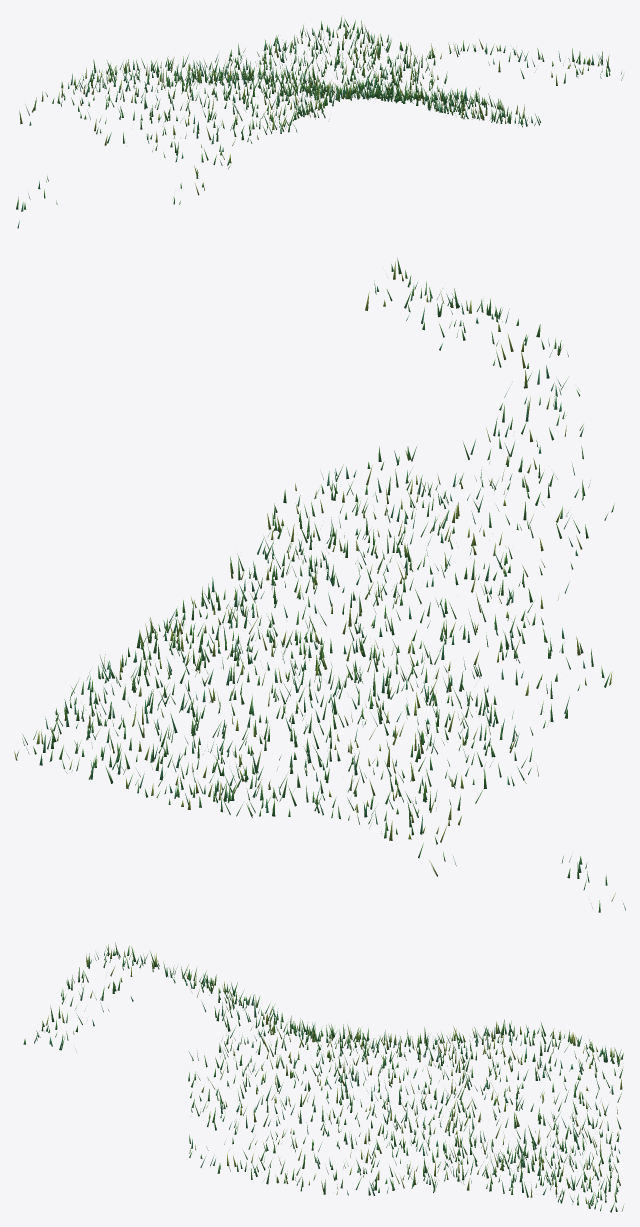
3 renders of one model, top to bottom at view 1: azimuth 30°, elevation 25°; view 2: azimuth 150°, elevation 25°; view 3: azimuth 270°, elevation 25°, orthographic. The views are drawn at different scales.
Visible parts, largest first — view 1: gc_40; view 2: gc_40; view 3: gc_40.
Boxes of the visible parts, x1=… form: gc_40: x1=16, y1=15, x2=623, y2=228; gc_40: x1=14, y1=258, x2=625, y2=912; gc_40: x1=23, y1=942, x2=624, y2=1212.
Bounding box in the file's own units: 9.51 × 5.83 × 12.
Materials: 1 (1 with a texture image).
